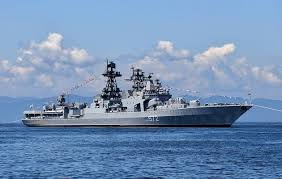tau_muctieu: (17, 68, 254, 130)
